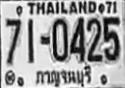0: (52, 18, 67, 60)
1: (27, 19, 33, 63)
2: (87, 18, 103, 62)
4: (69, 16, 84, 61)
5: (103, 16, 119, 60)
7: (6, 18, 20, 65)
KRI: (30, 63, 94, 88)
